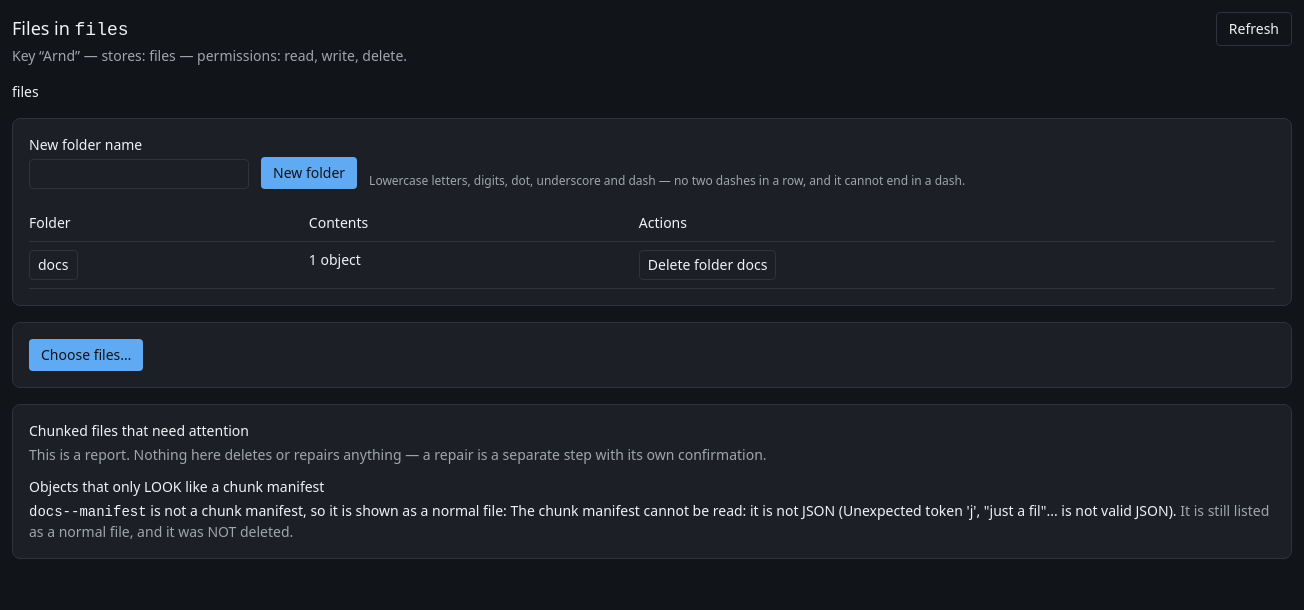
Test: a REAL FILE whose name only LOOKS like a manifest renders as a normal file, because its content does not parse
Step 1. Click the button "docs" → {"x": 53, "y": 265}, box [29,250,78,280]
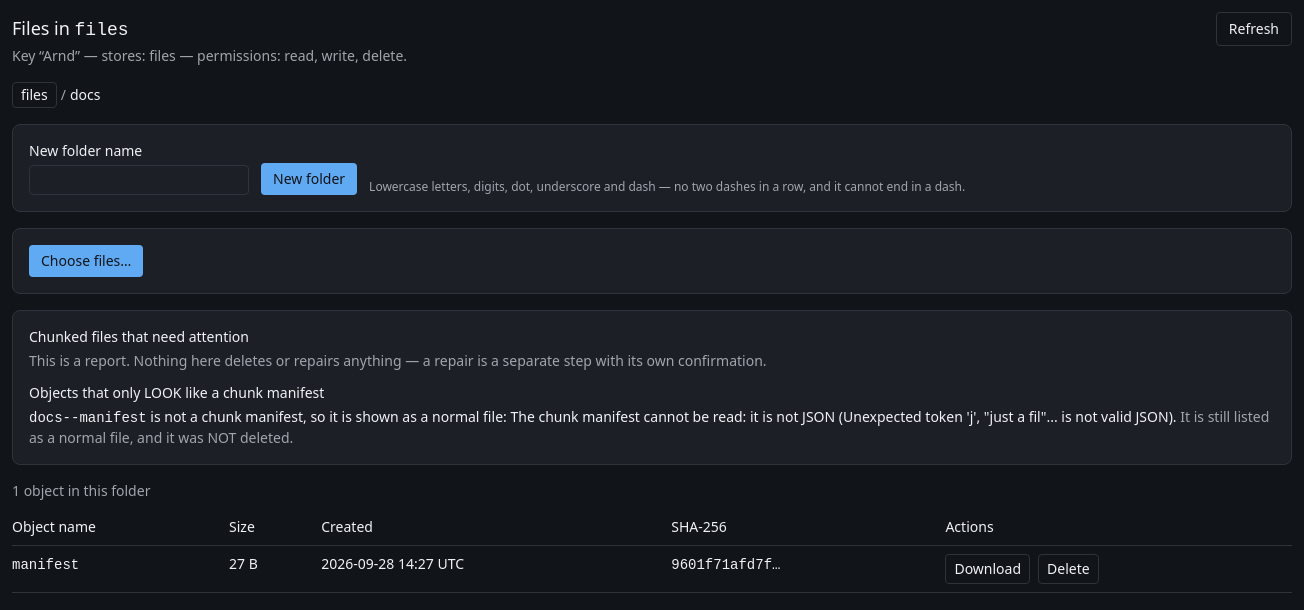
Expected: the heading "Objects that only LOOK like a chunk manifest" is shown, [29,383,324,402]
Expected: the text "manifest" is shown, [12,557,79,573]
Expected: the button "Download" is shown, [945,554,1030,584]
